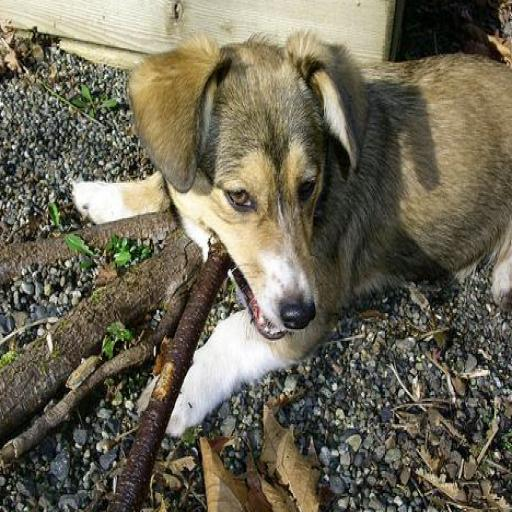dog_face: (141, 42, 368, 337)
